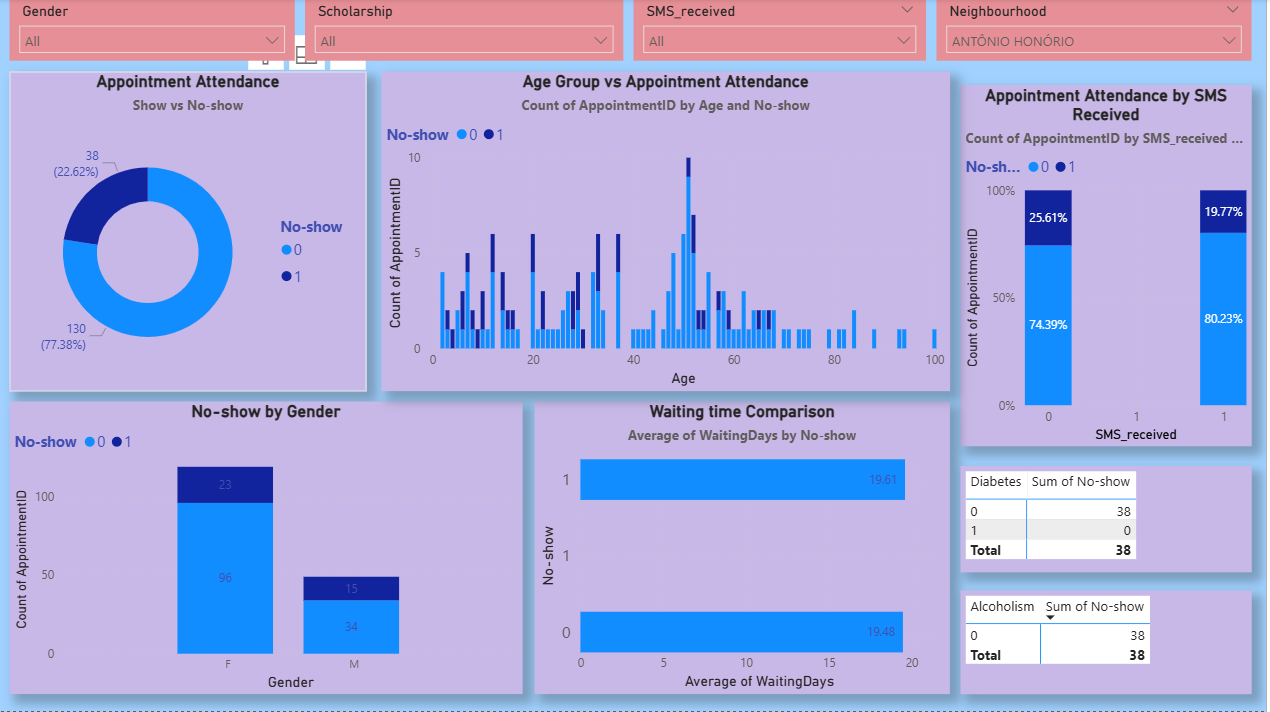

Layout of this report page (visuals, bound fields, positions):
{"tool":"powerbi","page":{"name":"Page 1","canvas":[1280,720],"ordinal":0},"visuals":[{"type":"donutChart","title":"Appointment Attendance","fields":{"Category":["cleaned_medical_appointments.No-show"],"Y":["cleaned_medical_appointments.AppointmentID"]},"box":[10.6,74.2,360.4,322.5],"z":0},{"type":"columnChart","title":"No-show by Gender","fields":{"Category":["cleaned_medical_appointments.Gender"],"Y":["cleaned_medical_appointments.AppointmentID"],"Series":["cleaned_medical_appointments.No-show"]},"box":[10.6,407.3,517.9,295.3],"z":1},{"type":"hundredPercentStackedColumnChart","title":"Appointment Attendance by SMS Received","fields":{"Category":["cleaned_medical_appointments.SMS_received"],"Y":["cleaned_medical_appointments.AppointmentID"],"Series":["cleaned_medical_appointments.No-show"]},"box":[970.6,87.8,293.8,364.9],"z":2},{"type":"clusteredBarChart","title":"Waiting time Comparison","fields":{"Category":["cleaned_medical_appointments.No-show"],"Y":["cleaned_medical_appointments.WaitingDays"]},"box":[540.6,407.3,419.4,295.3],"z":3},{"type":"columnChart","title":"Age Group vs Appointment Attendance","fields":{"Category":["cleaned_medical_appointments.Age"],"Y":["cleaned_medical_appointments.AppointmentID"],"Series":["cleaned_medical_appointments.No-show"]},"box":[386.1,74.2,573.9,322.5],"z":4},{"type":"slicer","fields":{"Values":["cleaned_medical_appointments.Gender"]},"box":[10.6,0,287.7,63.6],"z":5},{"type":"slicer","fields":{"Values":["cleaned_medical_appointments.Scholarship"]},"box":[308.9,0,321,63.6],"z":6},{"type":"slicer","fields":{"Values":["cleaned_medical_appointments.SMS_received"]},"box":[640.5,0,295.3,63.6],"z":7},{"type":"slicer","fields":{"Values":["cleaned_medical_appointments.Neighbourhood"]},"box":[946.4,0,318,63.6],"z":8},{"type":"pivotTable","fields":{"Rows":["cleaned_medical_appointments.Diabetes"],"Values":["cleaned_medical_appointments.No-show"]},"box":[970.6,472.4,293.8,107.5],"z":9},{"type":"pivotTable","fields":{"Values":["cleaned_medical_appointments.No-show"],"Rows":["cleaned_medical_appointments.Alcoholism"]},"box":[970.6,598.1,293.8,104.5],"z":10}]}

Visuals, with their boxes in screenshot pixels (x1, y1, x2, y2), scaled from the page's 1280x720 canvas onto the 1270x712 screenshot:
"Appointment Attendance" donutChart: 11:73:368:392
"No-show by Gender" columnChart: 11:403:524:695
"Appointment Attendance by SMS Received" hundredPercentStackedColumnChart: 963:87:1255:448
"Waiting time Comparison" clusteredBarChart: 536:403:952:695
"Age Group vs Appointment Attendance" columnChart: 383:73:952:392
slicer - cleaned_medical_appointments.Gender: 11:0:296:63
slicer - cleaned_medical_appointments.Scholarship: 306:0:625:63
slicer - cleaned_medical_appointments.SMS_received: 635:0:928:63
slicer - cleaned_medical_appointments.Neighbourhood: 939:0:1255:63
pivotTable - cleaned_medical_appointments.Diabetes x cleaned_medical_appointments.No-show: 963:467:1255:573
pivotTable - cleaned_medical_appointments.No-show x cleaned_medical_appointments.Alcoholism: 963:591:1255:695
